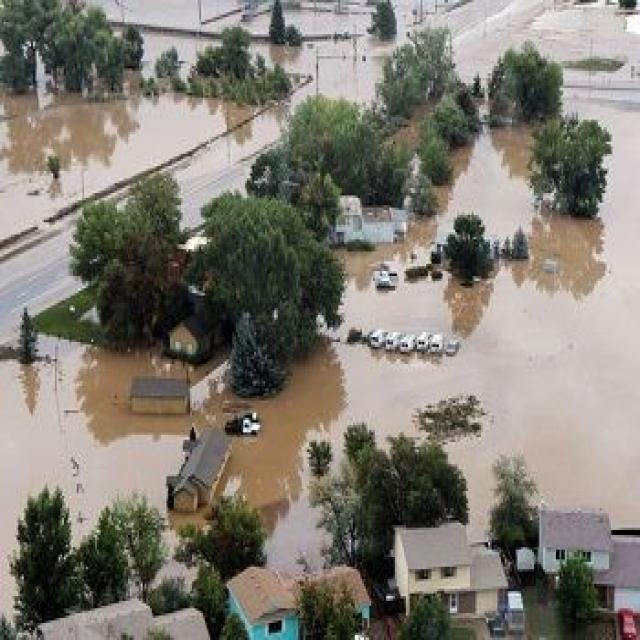flooded_areas: (111, 110, 546, 542), (0, 7, 207, 225)
